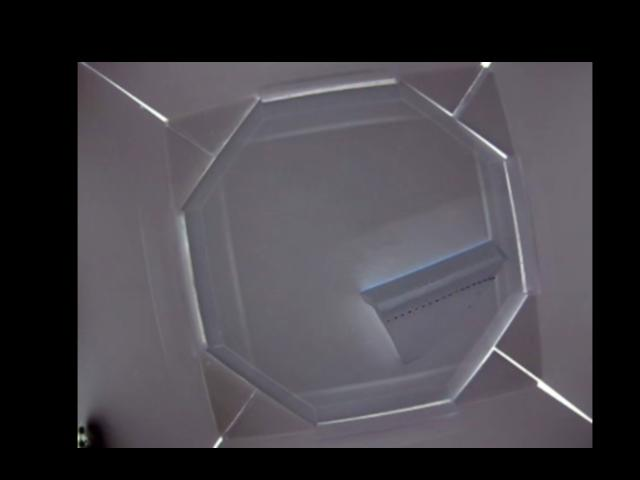China: (357, 239, 507, 360)
